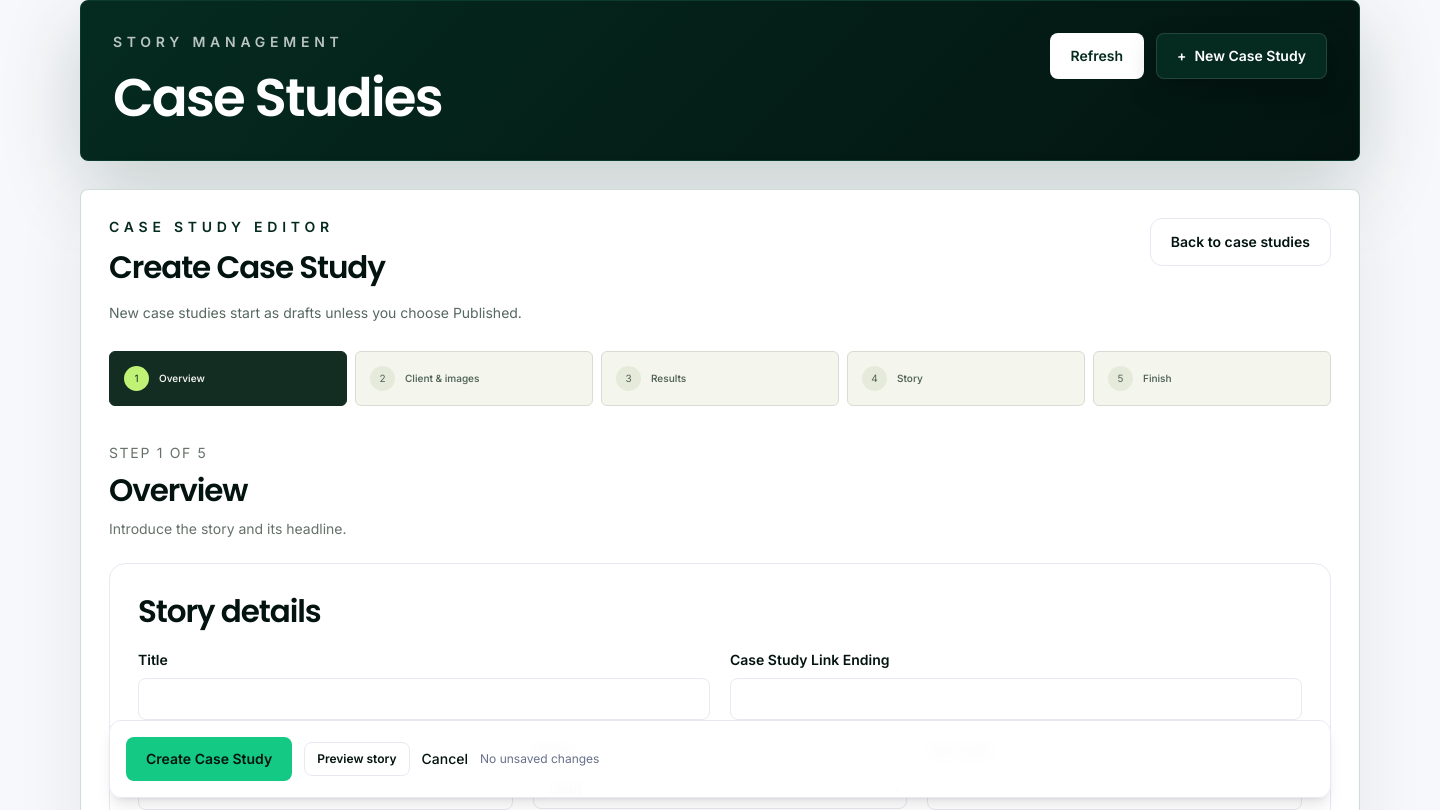
Test: admin case studies dashboard › shows the create case study form inside the dashboard
Expected: the heading "Create Case Study" is shown, [109, 245, 385, 289]
Expected: the heading "Browse And Manage Stories" is not shown
Click the button "3 Results": point(720, 378) [601, 351, 839, 406]
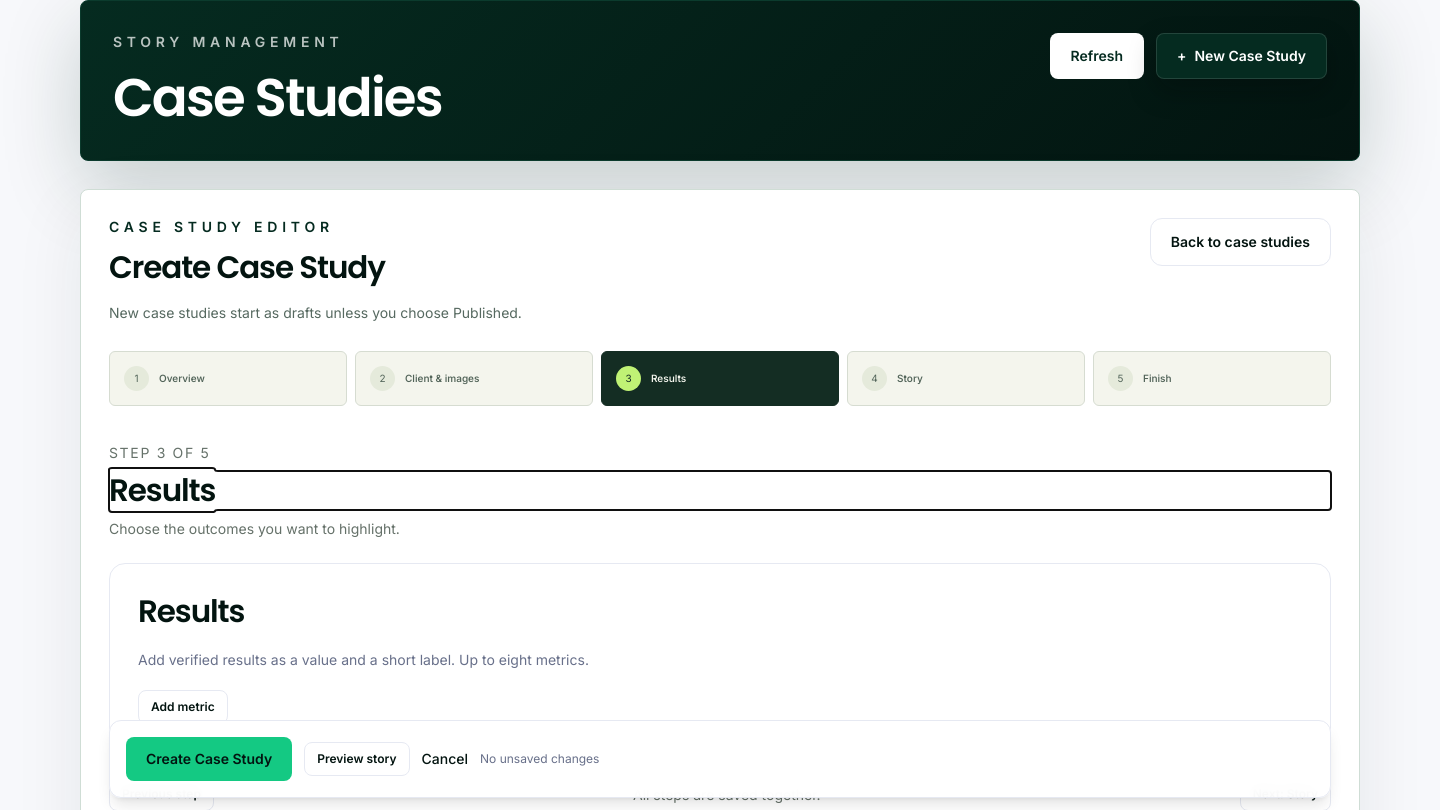
Expected: the button "Create Case Study" is shown, [126, 737, 292, 781]
Result: the button "Add metric" is shown at [138, 690, 228, 724]
